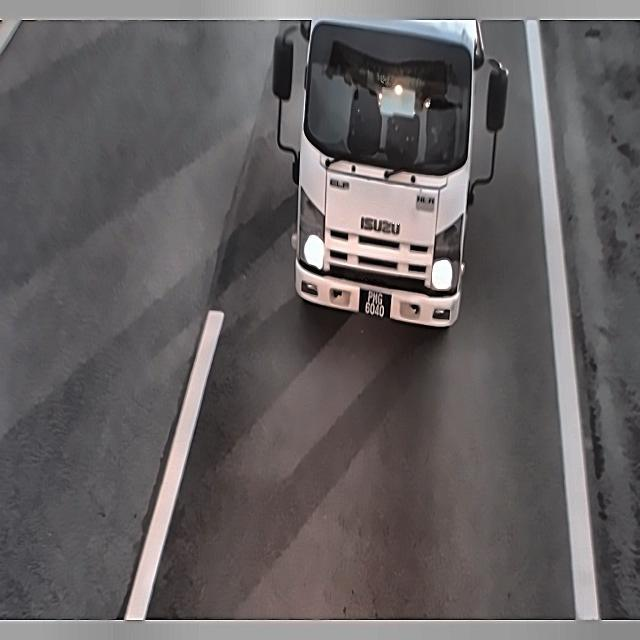car: (355, 281, 390, 330)
